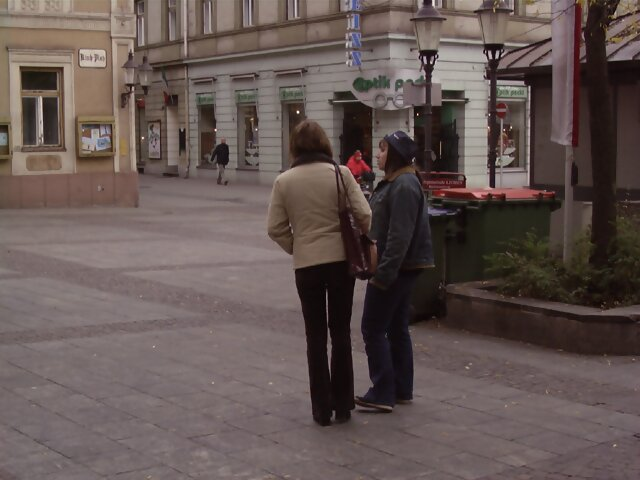person: (266, 114, 376, 426), (356, 129, 429, 417), (209, 135, 235, 186)
